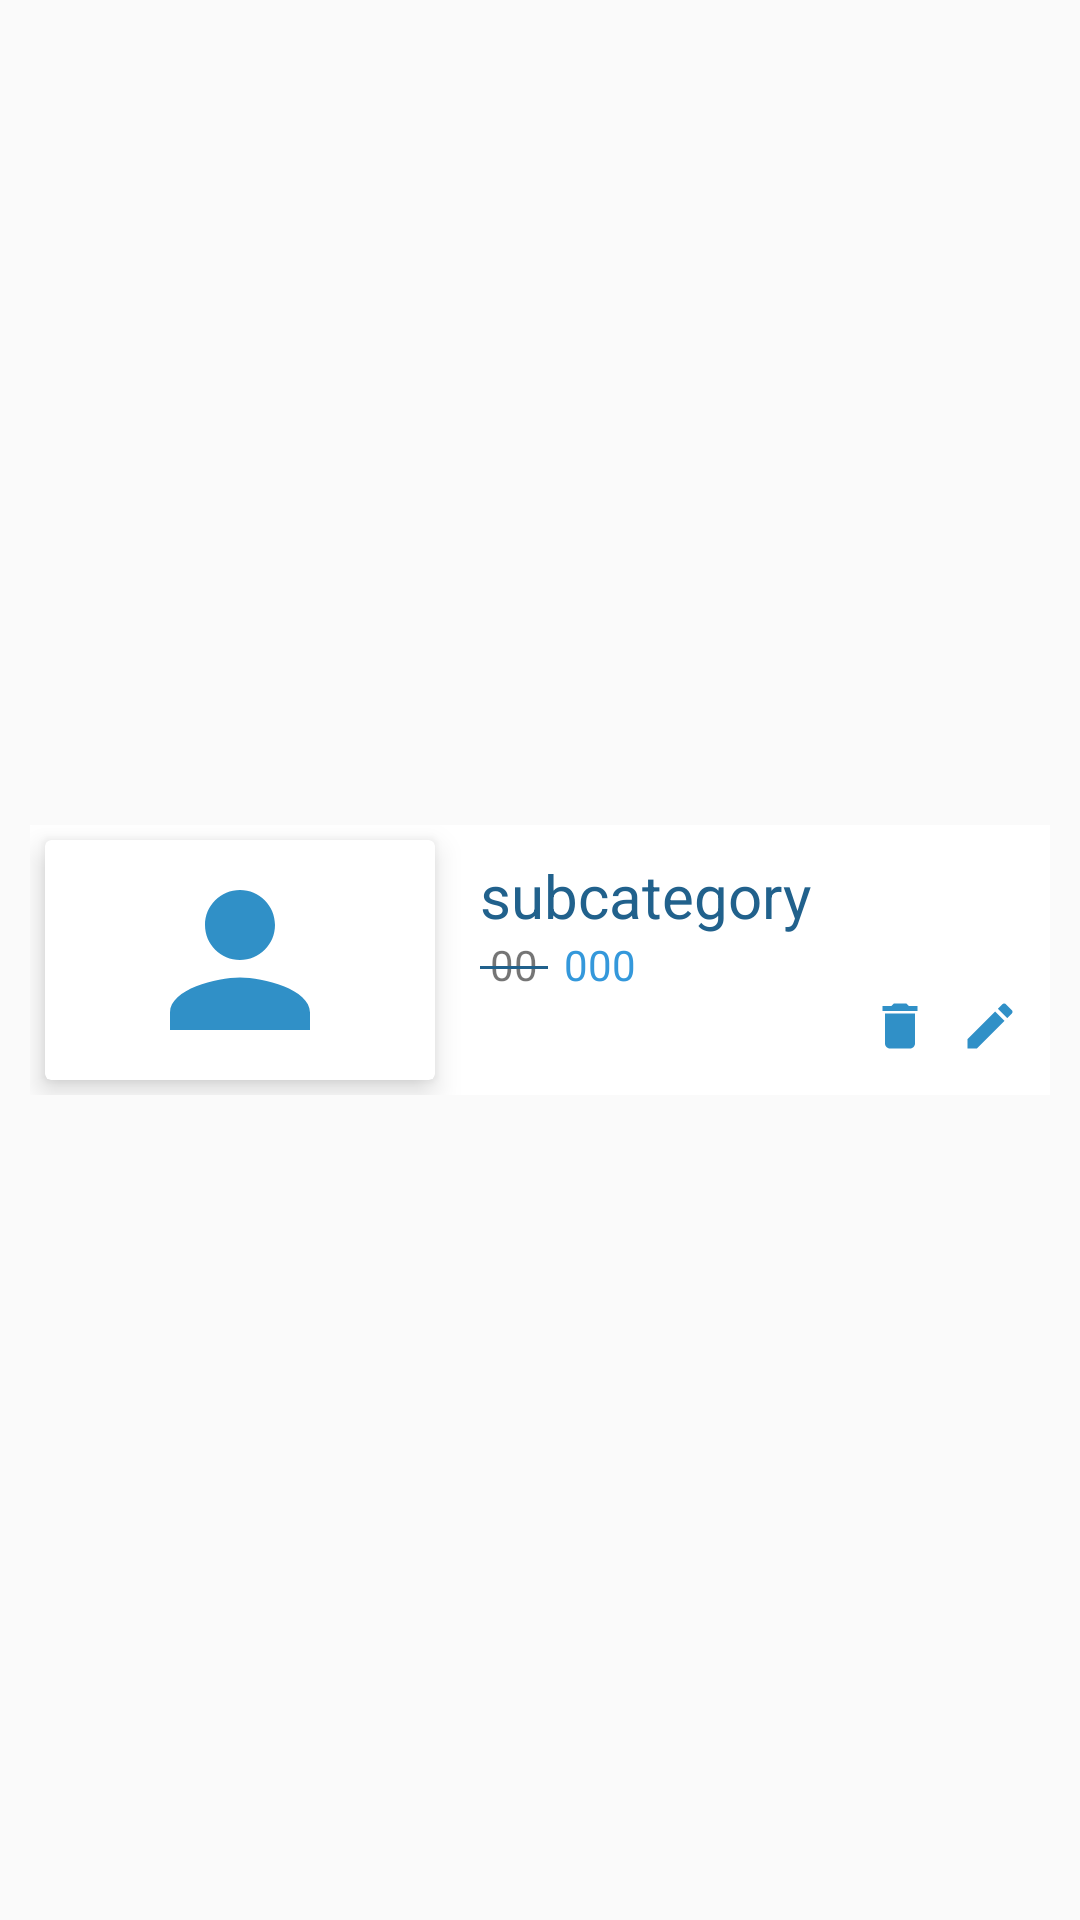

Named icons in this screenshot (1080px×1920px) and their centers, [x,y]:
delete: [900,1026]
edit: [990,1026]
person: [240,960]
